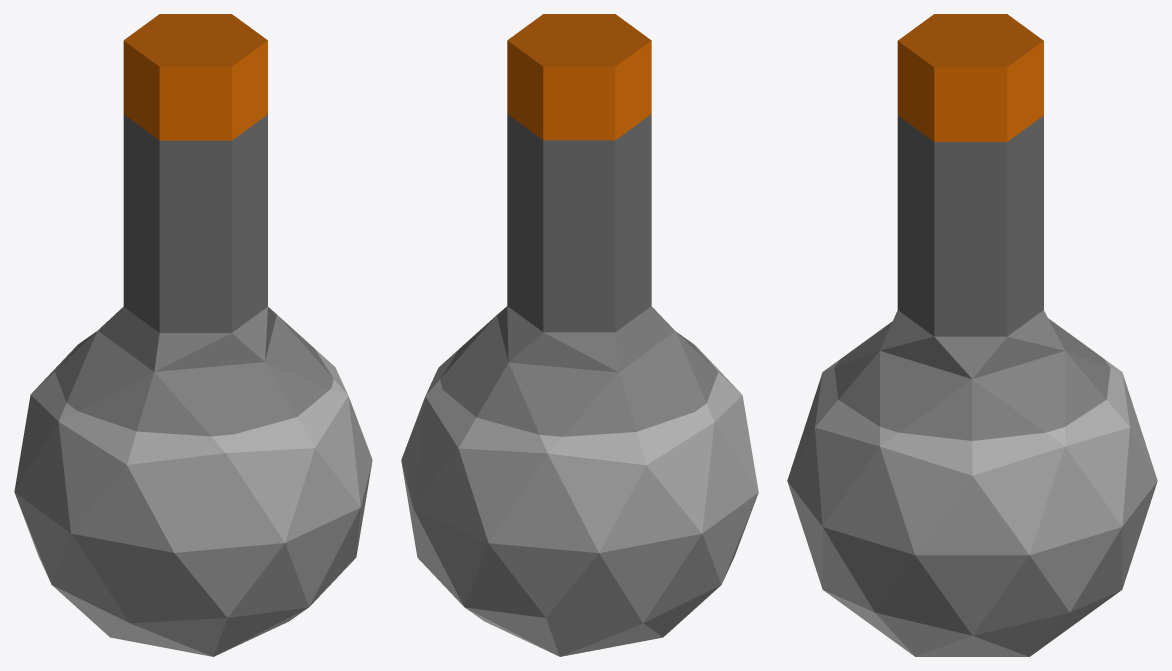
Rendered from potions_340x00.gltf.
The picture shows the model from 3 angles, left to right: view 1: azimuth 30°, elevation 25°; view 2: azimuth 150°, elevation 25°; view 3: azimuth 270°, elevation 25°; orthographic projection.
Parts seen in each view (by area): view 1: potions_340x00; view 2: potions_340x00; view 3: potions_340x00.
Boxes of the visible parts, left/top/right/bottom form: potions_340x00: left=14, top=14, right=372, bottom=656; potions_340x00: left=401, top=14, right=758, bottom=656; potions_340x00: left=787, top=14, right=1157, bottom=656.
Bounding box in the file's own units: 0.497 × 0.9473 × 0.5225.
2 materials, 2 textured.
